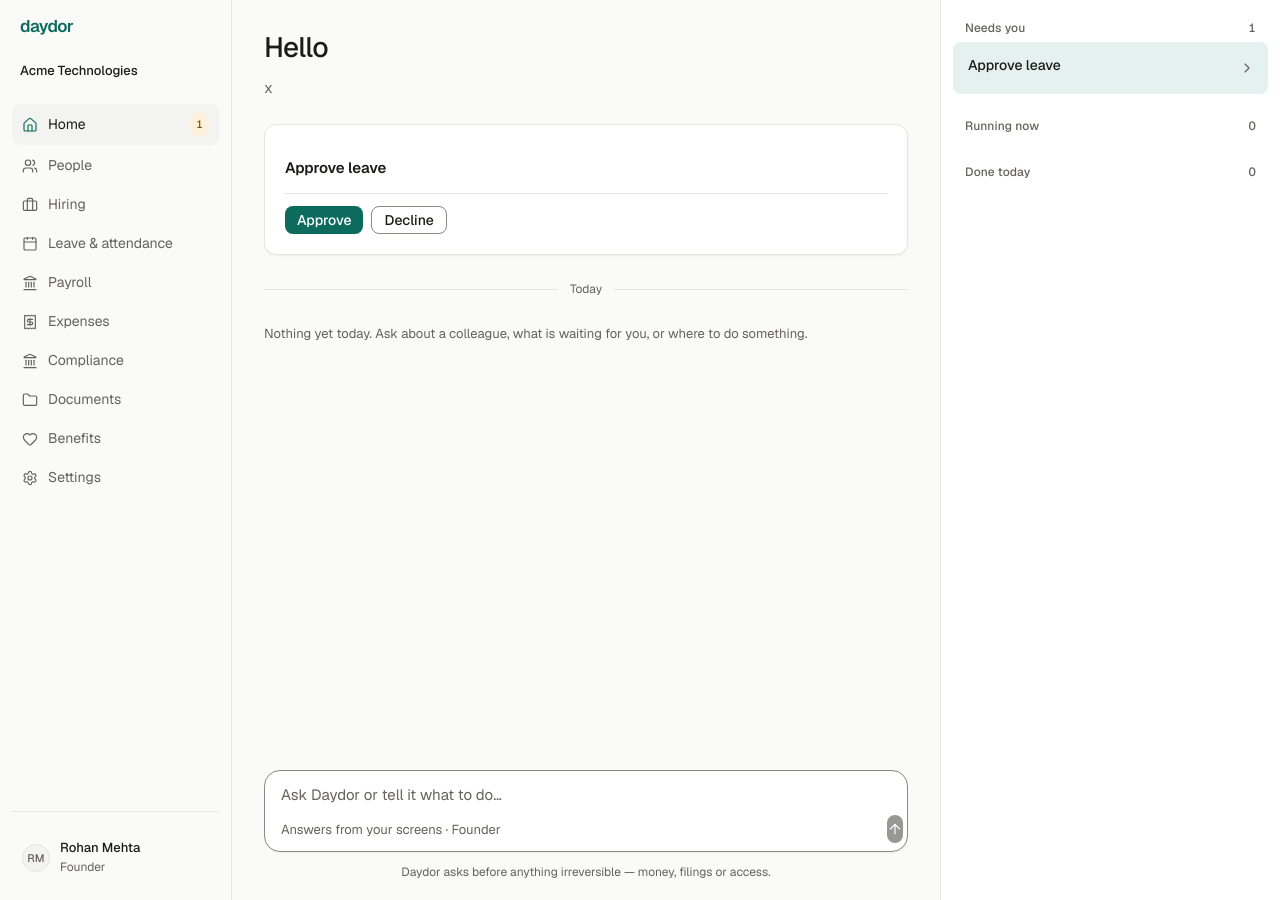
it: Home › shows a refused decision (403) in words and does not pretend it worked
Click the button "Approve" at (324, 220), box [285,206,364,234]
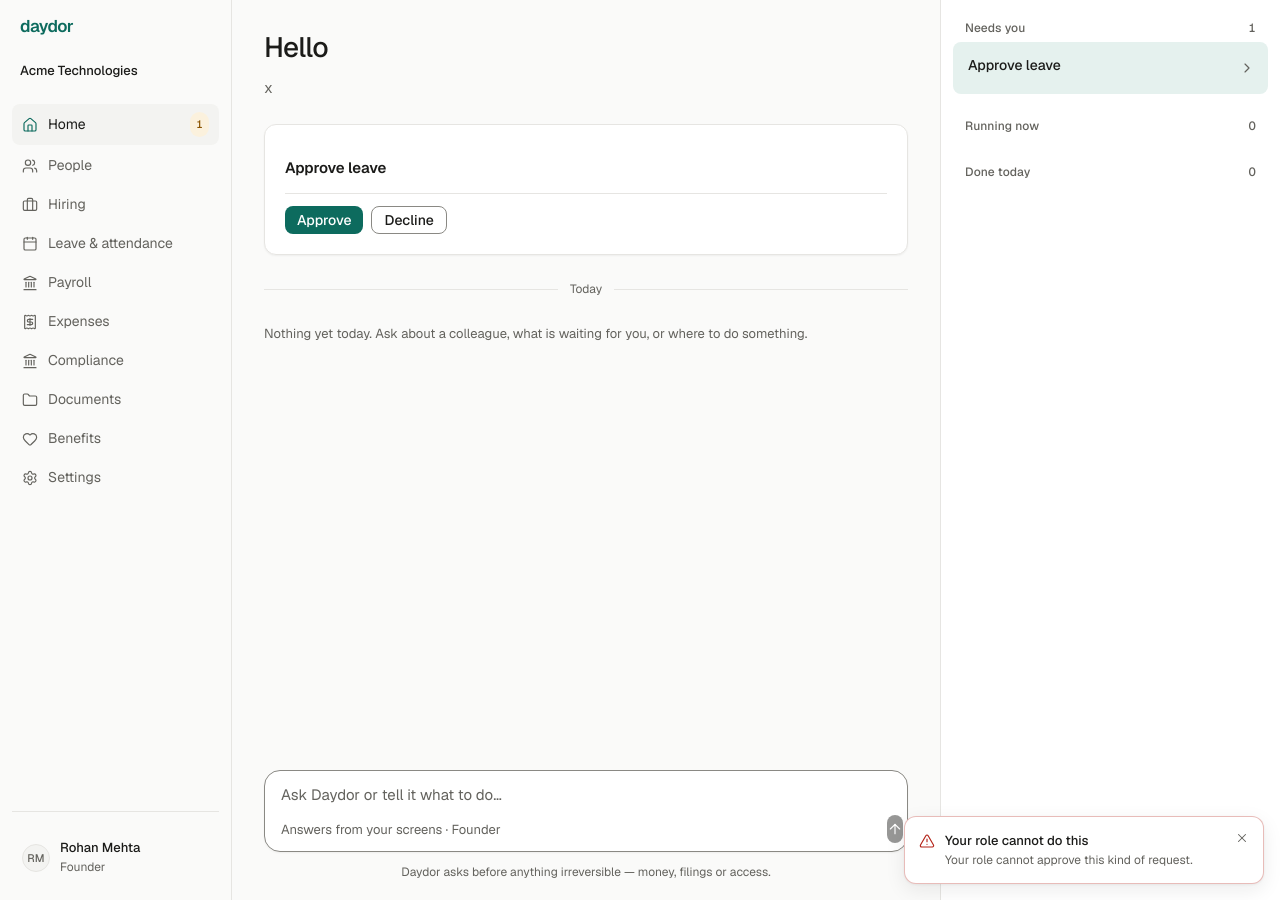
expect the text "Your role cannot approve this kind of request." is shown: met, box [945,852,1225,869]
